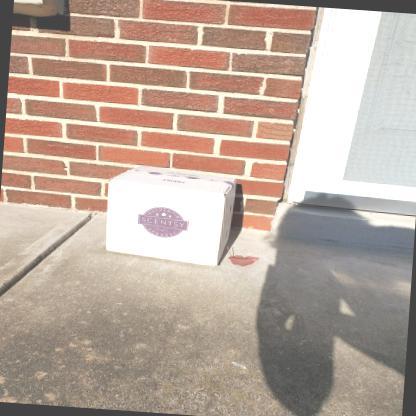box: (99, 163, 242, 267)
